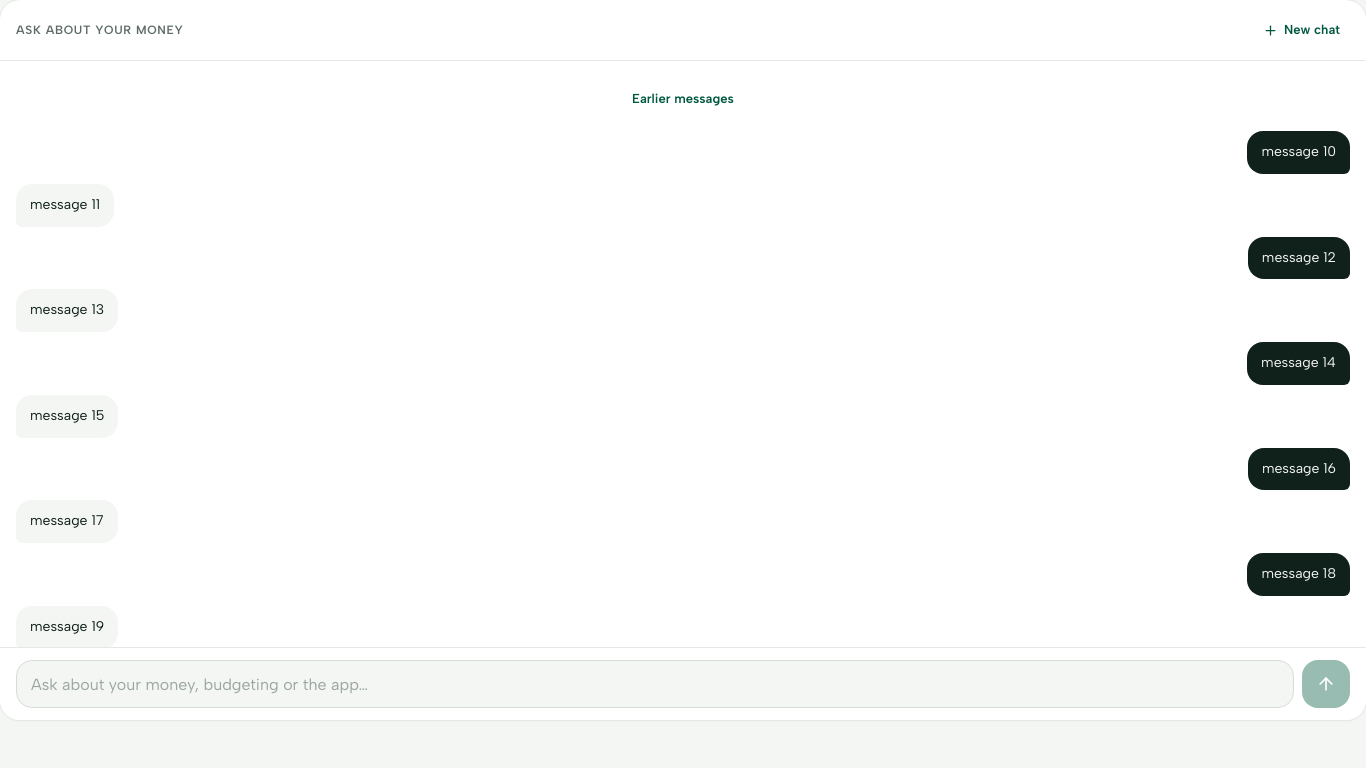
Test: ChatPanel history › shows an "Earlier messages" button when older messages exist and loads them on tap
Expected: the text "message 5" is not shown
Click the button with test id "chat-earlier". click: x=683, y=99
box: left=620, top=77, right=746, bottom=121
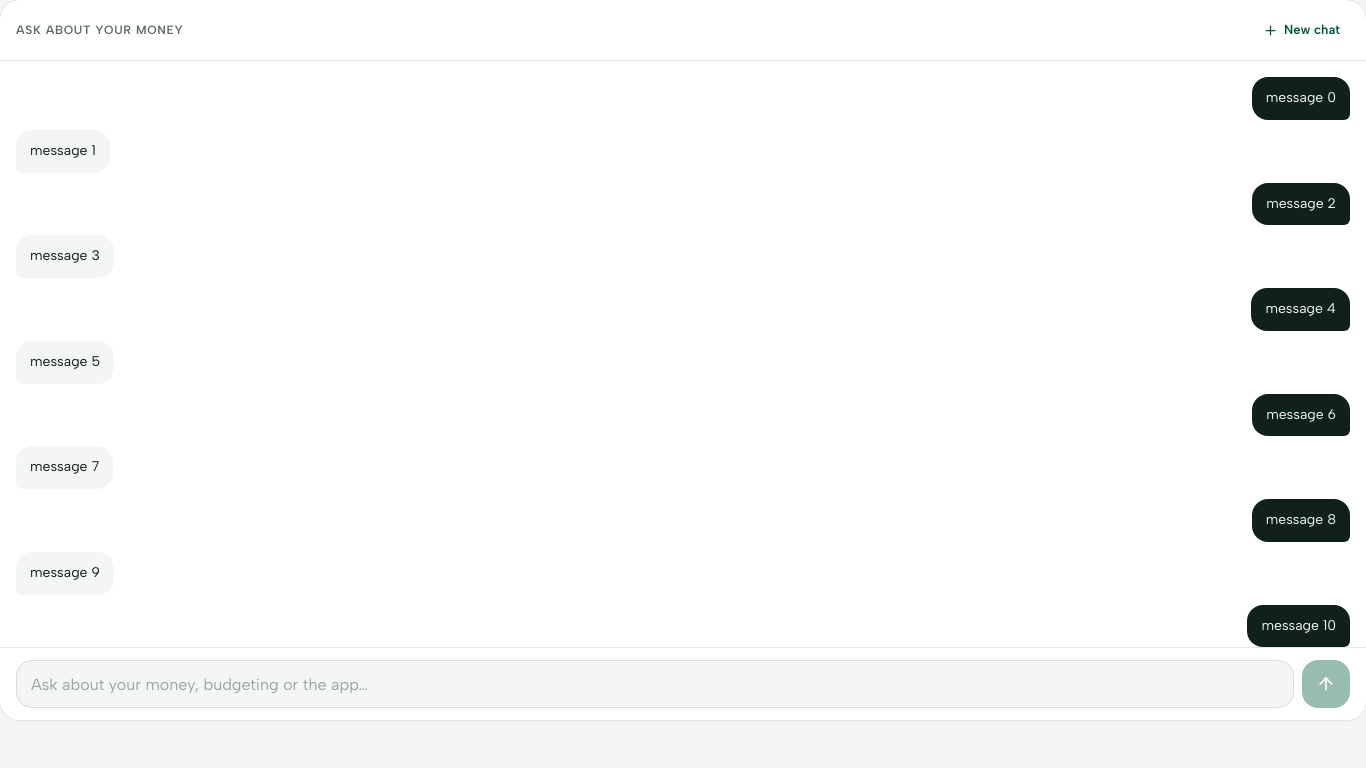
Result: the text "message 5" is shown at left=30, top=351, right=100, bottom=374
Result: the button with test id "chat-earlier" is gone
